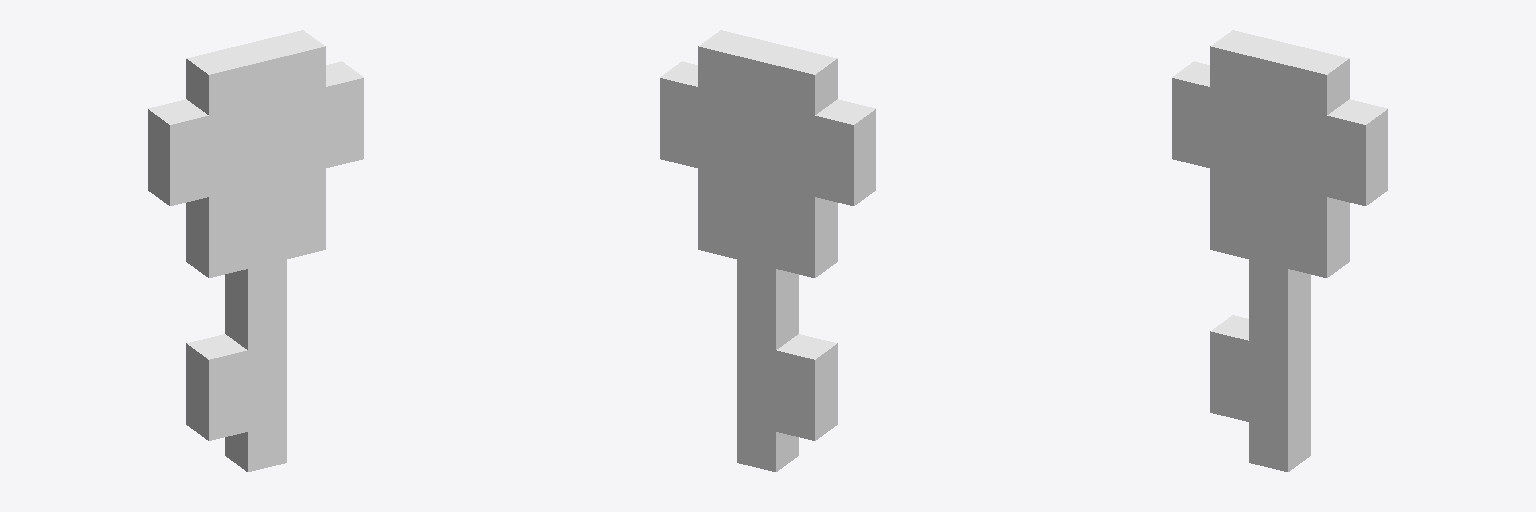
Rendered from SkeletonKey.obj.
The picture shows the model from 3 angles: view 1: azimuth 30°, elevation 25°; view 2: azimuth 150°, elevation 25°; view 3: azimuth 330°, elevation 25°; orthographic projection.
Parts seen in each view (by area): view 1: object 1; view 2: object 1; view 3: object 1.
Boxes of the visible parts, x1,y1,x2,y2 form: object 1: [148, 30, 363, 471]; object 1: [660, 30, 875, 471]; object 1: [1172, 30, 1387, 471].
Bounding box in the file's own units: 0.5 × 1 × 0.1.